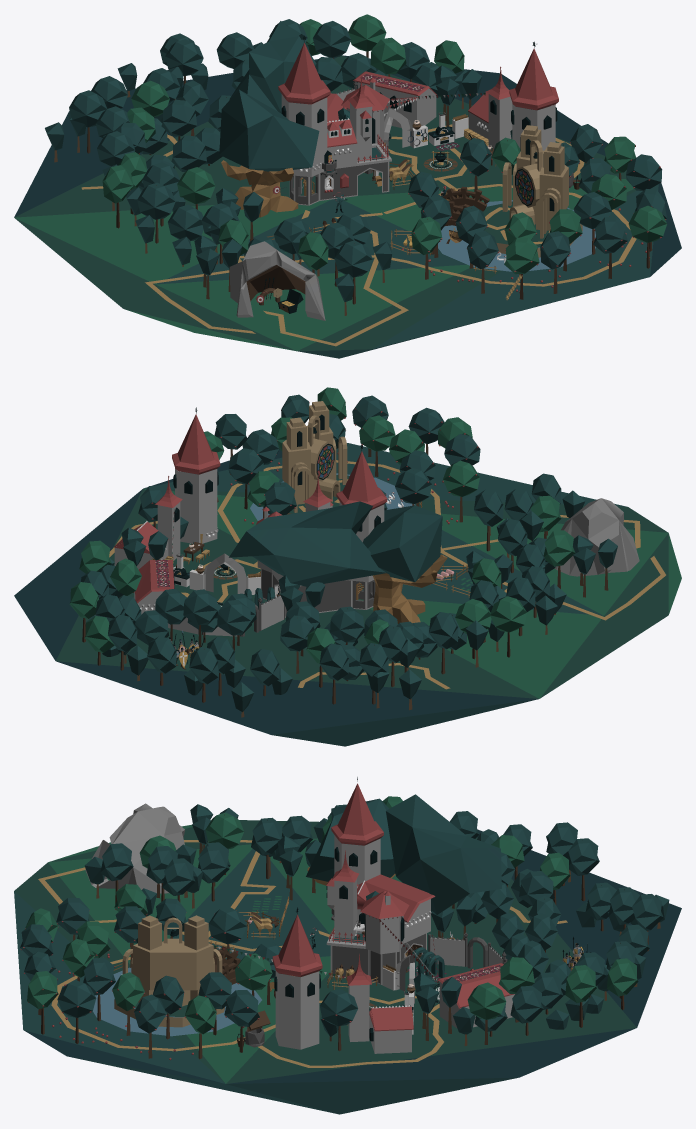
Rendered from robin.glb.
3 views of the same model, one above another, from view 1: azimuth 30°, elevation 25°; view 2: azimuth 150°, elevation 25°; view 3: azimuth 270°, elevation 25° (orthographic). The views are drawn at different scales.
Visible parts, largest first — view 1: Cloner_6; view 2: Cloner_6; view 3: Cloner_6.
Part boxes in pixels (box(x1,y1,x2,y2)): Cloner_6: box(14, 14, 681, 358); Cloner_6: box(14, 387, 681, 746); Cloner_6: box(14, 777, 681, 1114).
Bounding box in the file's own units: 147 × 84.67 × 157.
Materials: 2 (1 with a texture image).
